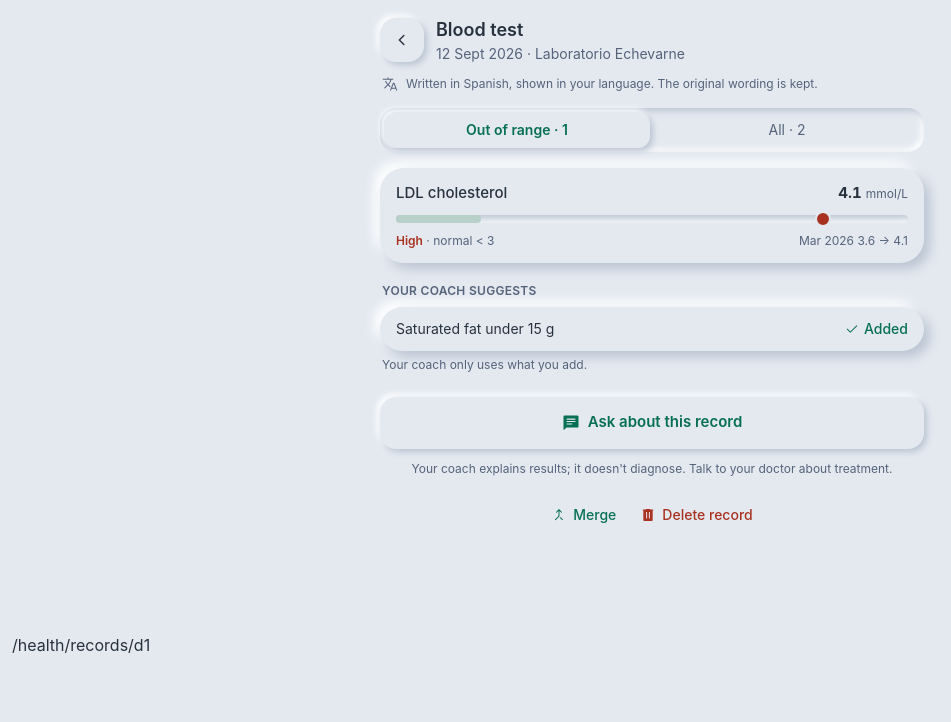
Test: a record › merges the records ticked into this one
Step 1. Click the button "Merge" → (584, 514), box [551, 492, 616, 536]
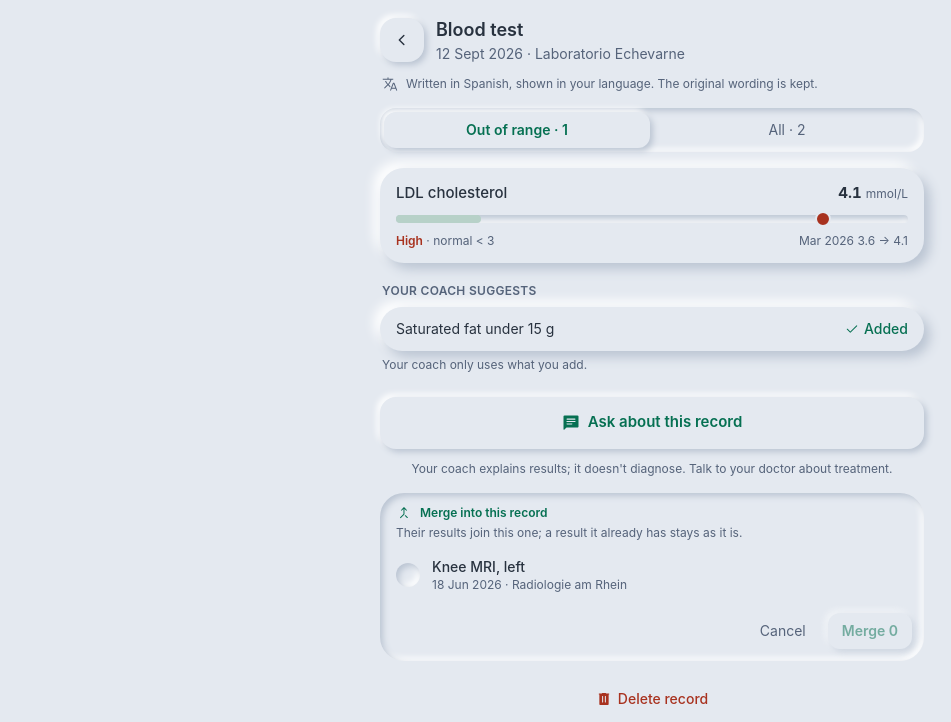
Result: the button "Merge 0" is disabled at [828, 612, 912, 648]
Step 2. Click the button "Knee MRI, left 18 Jun 2026 · Radiologie am Rhein" → (479, 566), box [392, 548, 912, 600]
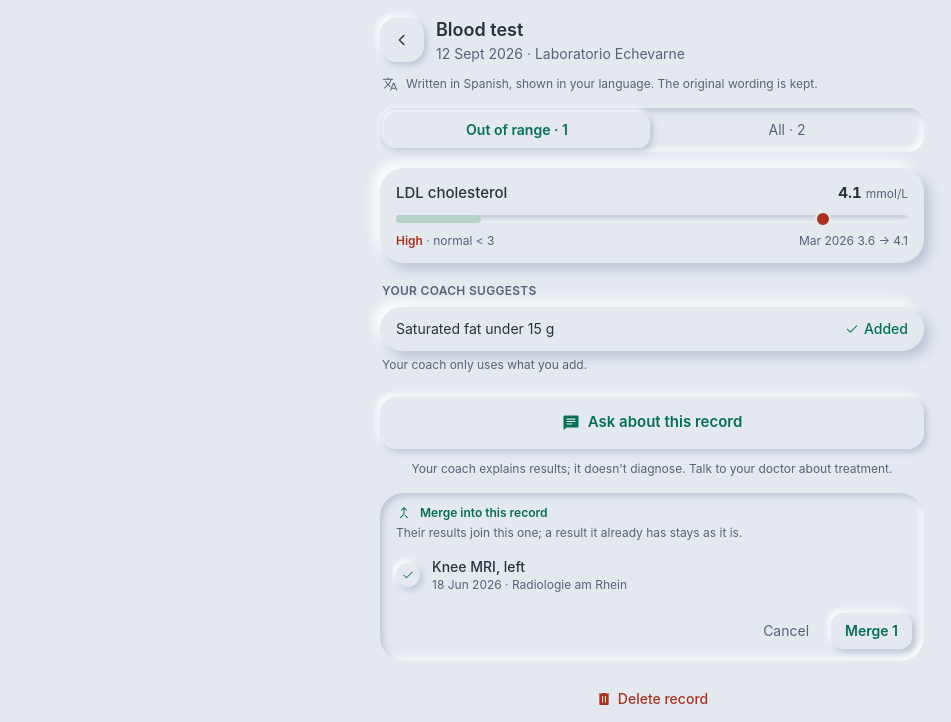
Step 3. Click the button "Merge 1" → (872, 630), box [831, 612, 912, 648]
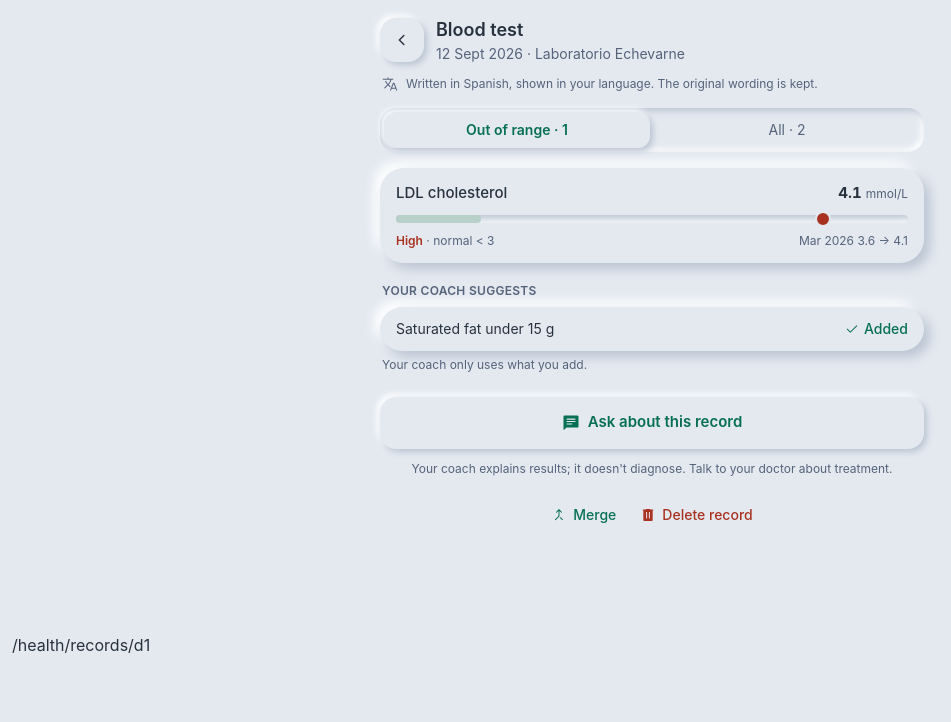
Result: the heading "Merge into this record" is gone
